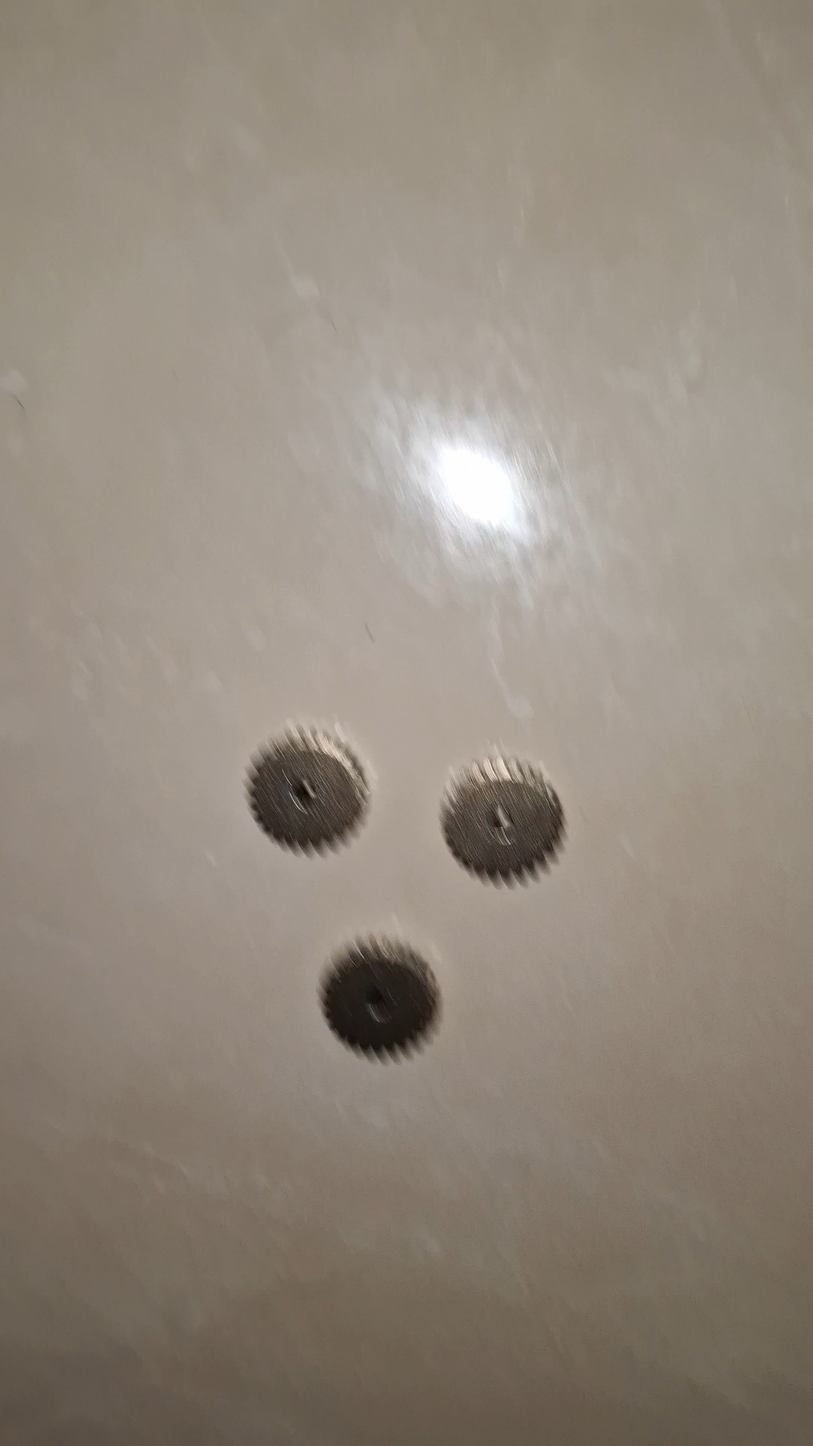spur gear: (441, 756, 564, 880), (246, 727, 368, 851), (321, 937, 439, 1057)
